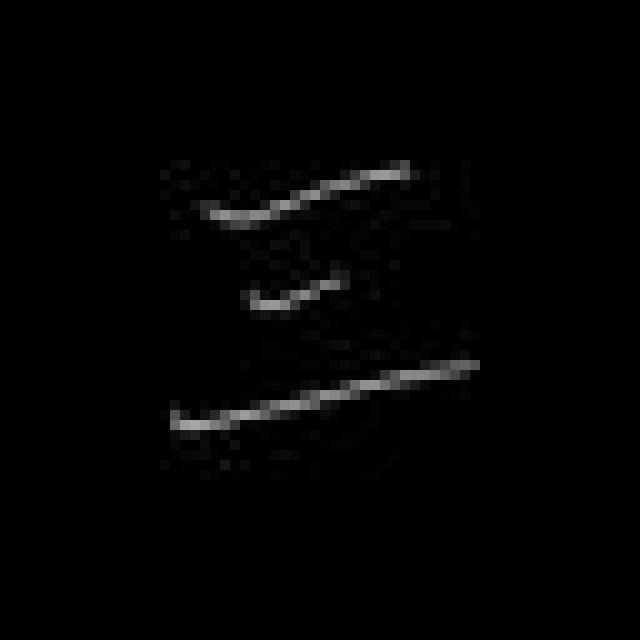3 -three-: (149, 145, 508, 450)
